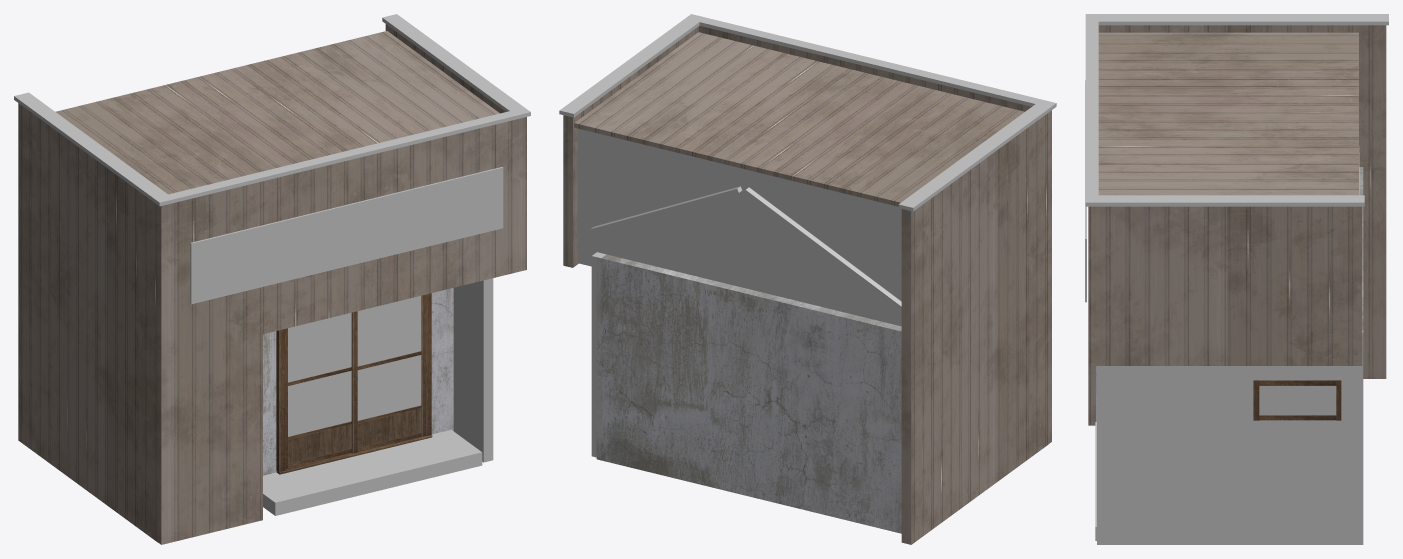
3 views of the same model, side by side, from view 1: azimuth 30°, elevation 25°; view 2: azimuth 150°, elevation 25°; view 3: azimuth 270°, elevation 25° (orthographic). The views are drawn at different scales.
Parts seen in each view (by area): view 1: ms_h04_f; view 2: ms_h04_f; view 3: ms_h04_f.
Boxes of the visible parts, x1,y1,x2,y2 form: ms_h04_f: [14, 14, 530, 544]; ms_h04_f: [559, 14, 1056, 544]; ms_h04_f: [1085, 14, 1388, 544].
Size of the model in its own units: 661 by 589 by 450.
